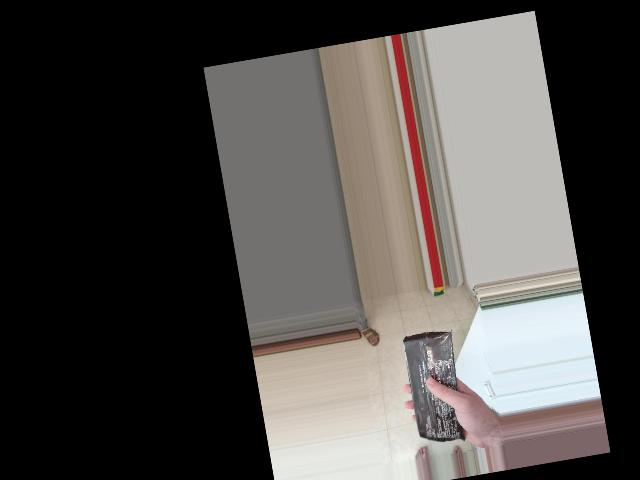chocolate: (400, 324, 469, 446)
